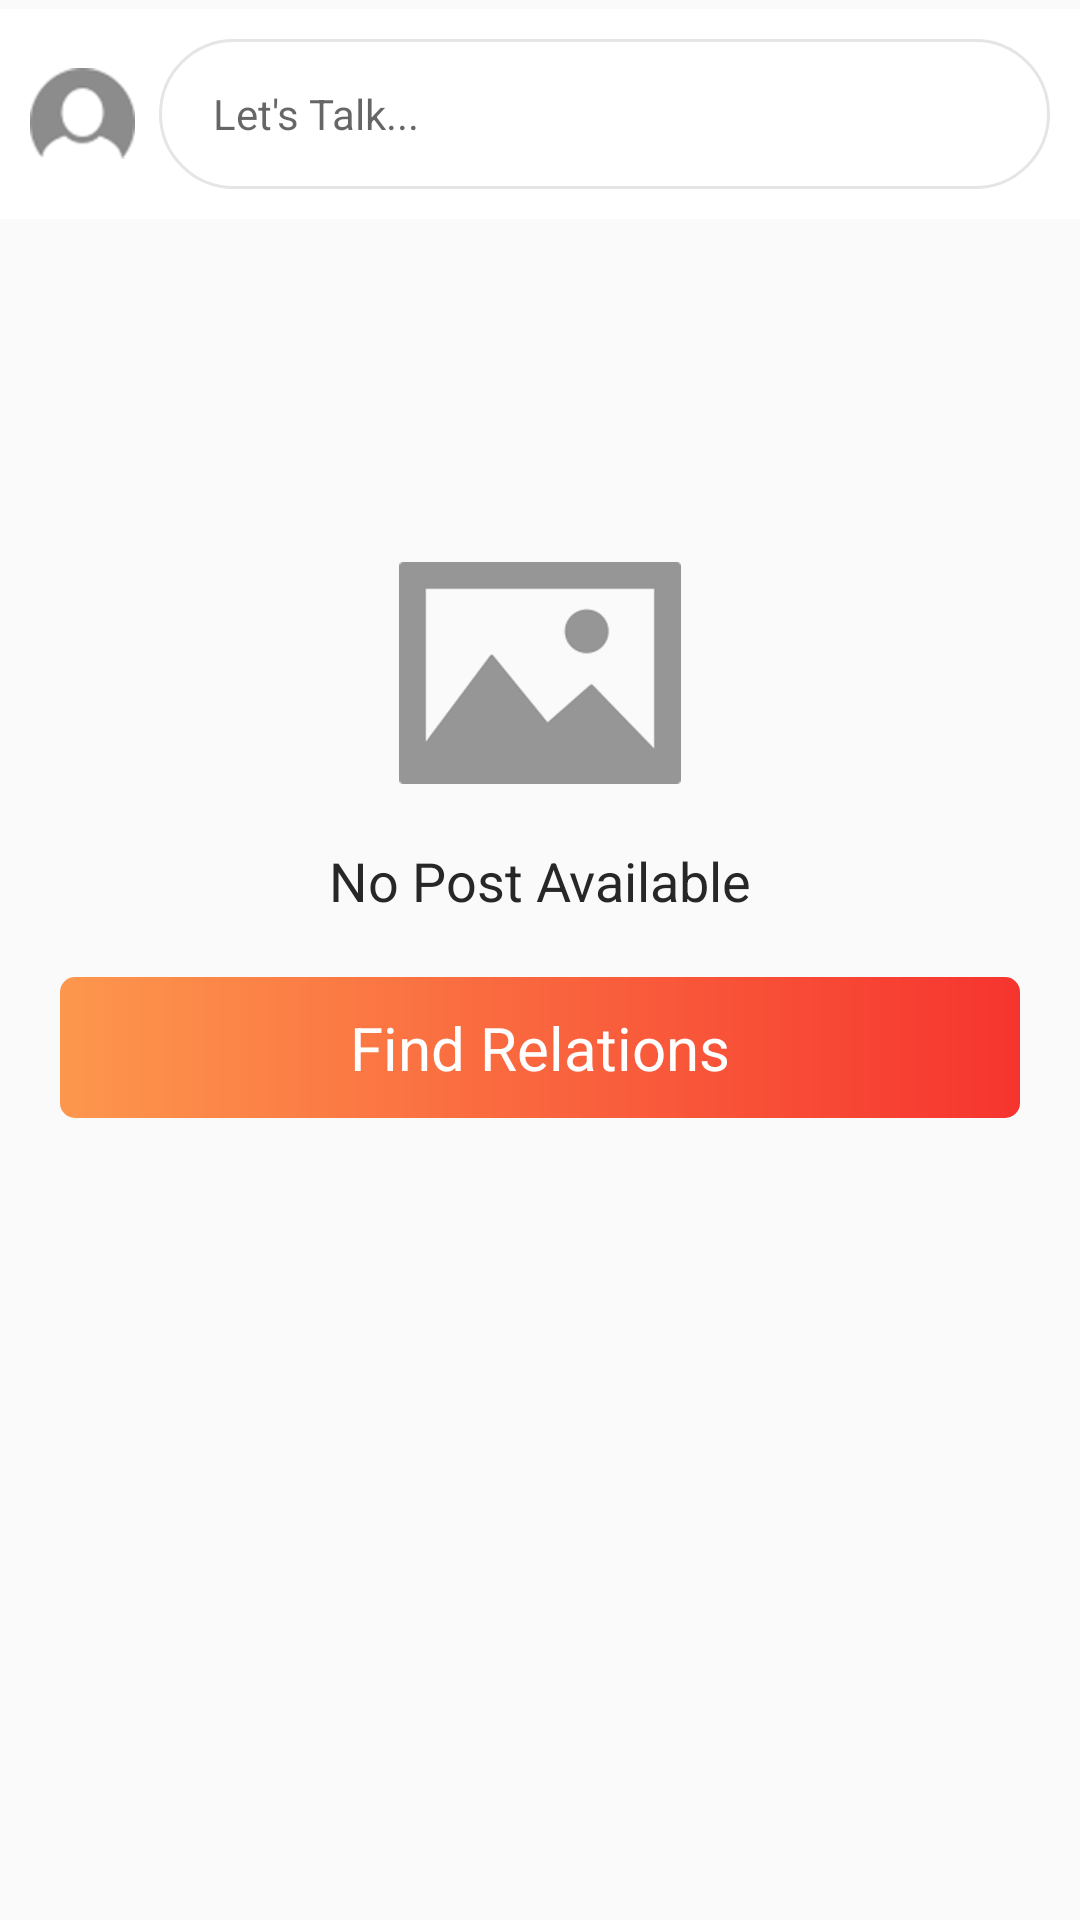

Screen size 1080w x 1920h. Icon name, then its center in pixels as point (x, y):
profile: point (82, 113)
